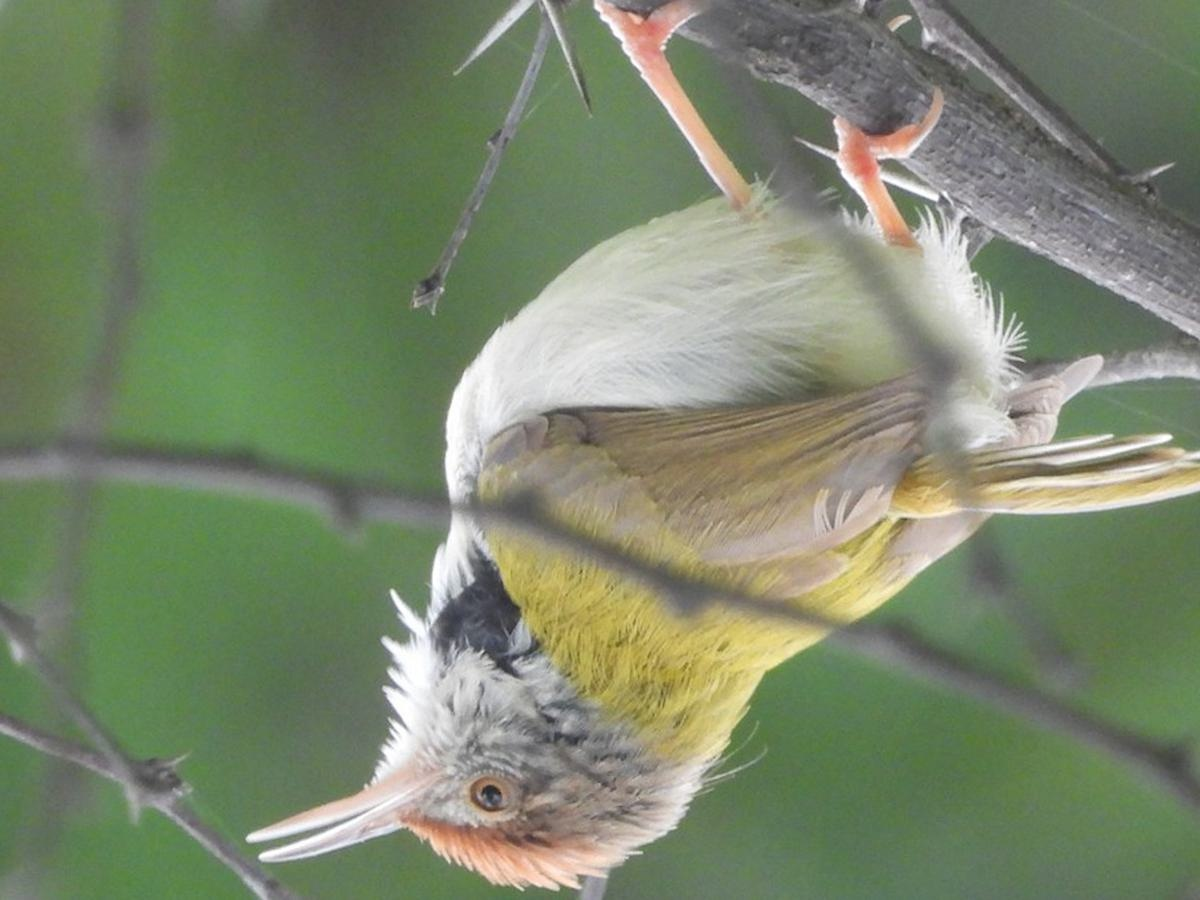tailorbird: (243, 128, 1137, 891)
